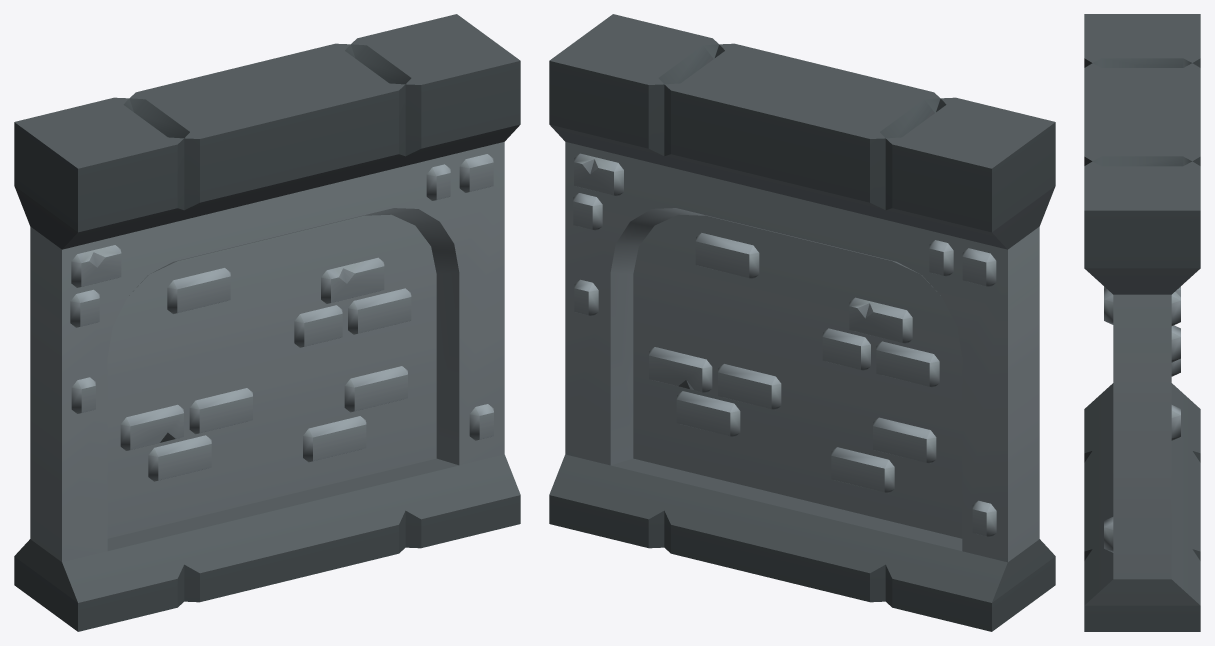
Rendered from wall_arched.glb.
3 renders of one model, left to right at view 1: azimuth 30°, elevation 25°; view 2: azimuth 150°, elevation 25°; view 3: azimuth 270°, elevation 25°, orthographic. The views are drawn at different scales.
Parts seen in each view (by area): view 1: wall_arched; view 2: wall_arched; view 3: wall_arched.
Boxes of the visible parts, x1=… form: wall_arched: x1=14, y1=14, x2=520, y2=631; wall_arched: x1=549, y1=14, x2=1055, y2=631; wall_arched: x1=1084, y1=14, x2=1200, y2=631.
Bounding box in the file's own units: 4 × 4 × 1.
Materials: 1 (1 with a texture image).
